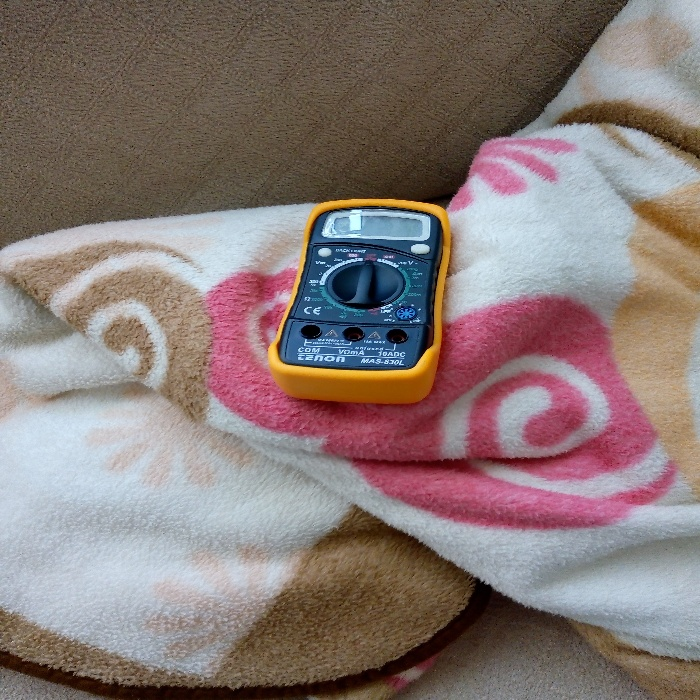multimetre: (257, 180, 460, 411)
